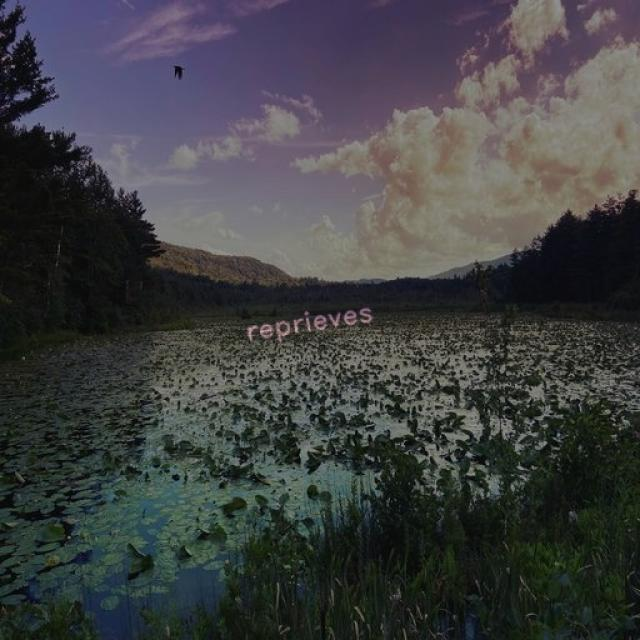watermark: (239, 298, 373, 345)
